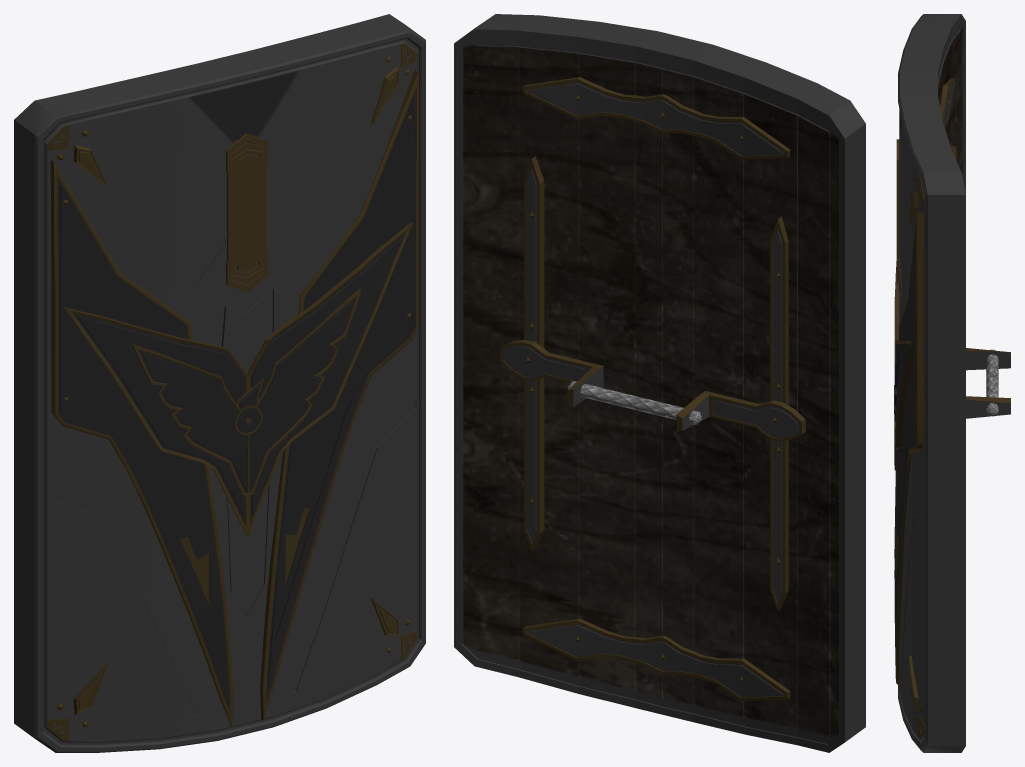
The model's file is shield.glb.
3 renders of one model, left to right at view 1: azimuth 30°, elevation 25°; view 2: azimuth 150°, elevation 25°; view 3: azimuth 270°, elevation 25°, orthographic. The views are drawn at different scales.
Visible parts, largest first — view 1: Object_3, Object_2; view 2: Object_3; view 3: Object_3, Object_2.
Boxes of the visible parts, x1,y1,x2,y2 form: Object_3: (14,14,425,752); Object_2: (50,70,418,727); Object_3: (454,14,865,752); Object_3: (894,14,1010,752); Object_2: (894,212,923,684).
Size of the model in its own units: 7.93 by 12.83 by 2.25.
Materials: 1 (1 with a texture image).
